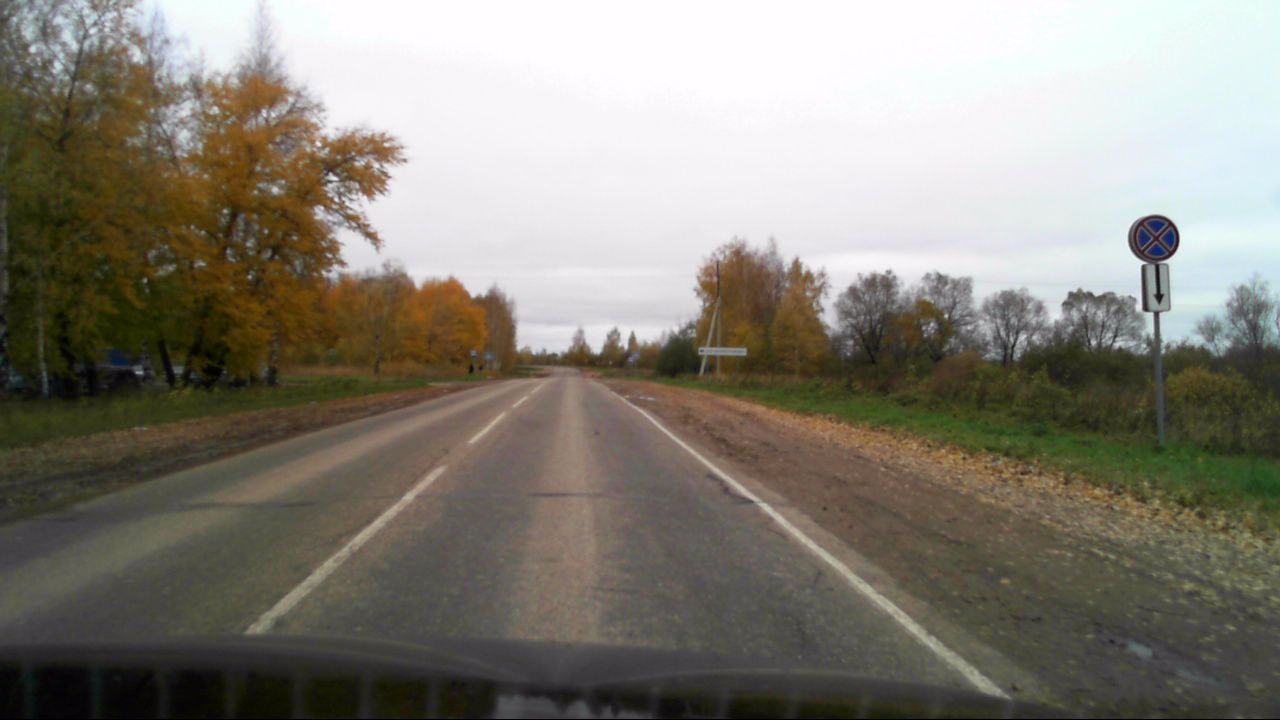No Parking: (1127, 214, 1182, 262)
